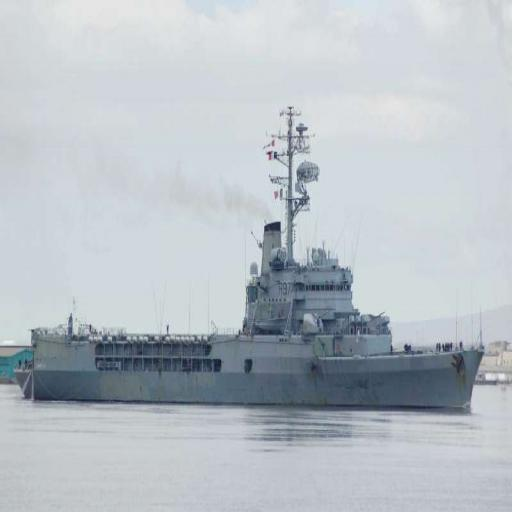Portanaves: (9, 95, 490, 415)
